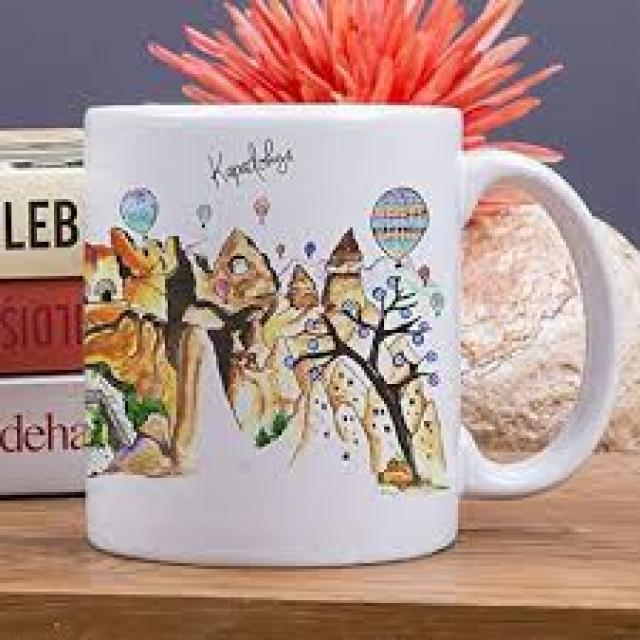taza: (82, 102, 618, 566)
